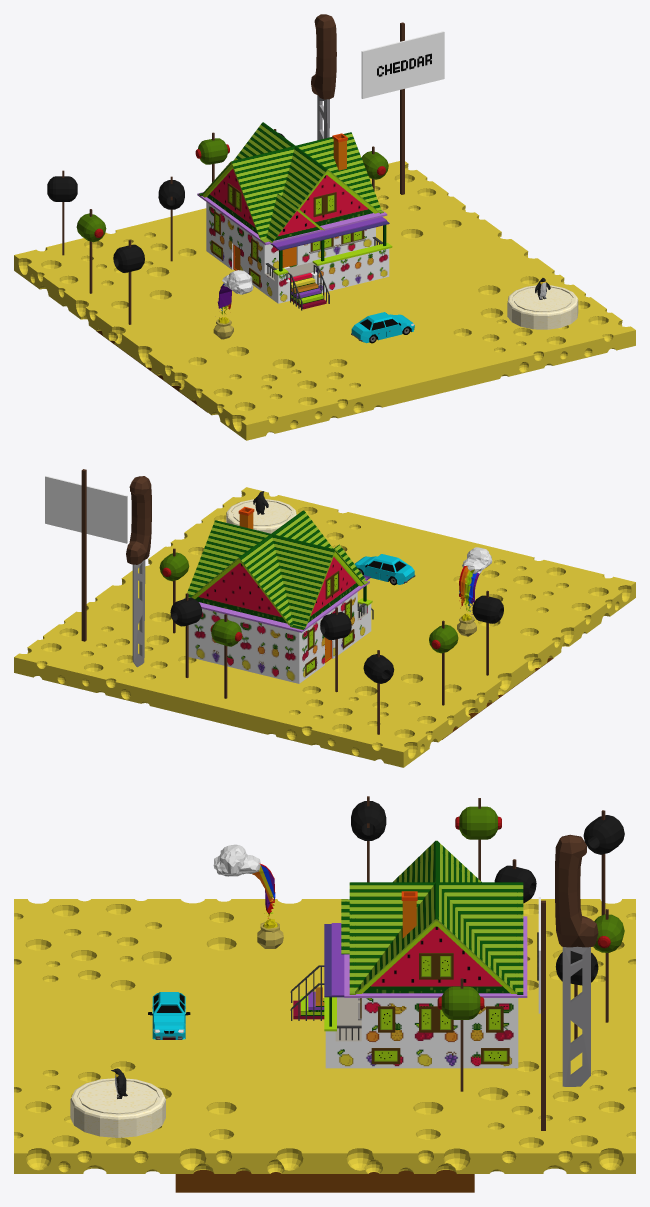
The picture shows the model from 3 angles, top to bottom: view 1: azimuth 30°, elevation 25°; view 2: azimuth 150°, elevation 25°; view 3: azimuth 270°, elevation 25°; orthographic projection. The views are drawn at different scales.
Visible parts, largest first — view 1: Cube.022, Cube.1063, Cube.023, Cylinder.016, Cube.024, VEHICLES_CAR, OBJRANDOM_RAINBOW, Sphere.017, Sphere.016, Sphere.018, Sphere.020, Sphere.022 (+1 smaller); view 2: Cube.022, Cube.1063, Cube.023, Cube.024, OBJRANDOM_RAINBOW, Cylinder.016, VEHICLES_CAR, Sphere.021, Sphere.022, Sphere.020, Sphere.017, Sphere.016 (+2 smaller); view 3: Cube.022, Cube.1063, Cube.024, UNDERGROUND_ART_PIECE_VAN_GOGH, Cylinder.016, OBJRANDOM_RAINBOW, VEHICLES_CAR, Sphere.019, Sphere.016, Cube.023, Sphere.018, Sphere.017 (+3 smaller).
Part boxes in pixels (bbox=[...]): Cube.022: bbox=[14, 161, 635, 440]; Cube.1063: bbox=[197, 122, 392, 310]; Cube.023: bbox=[361, 22, 444, 194]; Cylinder.016: bbox=[507, 285, 578, 329]; Cube.024: bbox=[311, 14, 336, 140]; VEHICLES_CAR: bbox=[351, 312, 414, 343]; OBJRANDOM_RAINBOW: bbox=[213, 270, 253, 339]; Sphere.017: bbox=[113, 240, 144, 324]; Sphere.016: bbox=[47, 170, 77, 255]; Sphere.018: bbox=[76, 209, 106, 293]; Sphere.020: bbox=[158, 176, 184, 261]; Sphere.022: bbox=[195, 132, 229, 182]; Cube.022: bbox=[14, 487, 635, 767]; Cube.1063: bbox=[183, 506, 373, 683]; Cube.023: bbox=[45, 469, 127, 641]; Cube.024: bbox=[126, 476, 151, 667]; OBJRANDOM_RAINBOW: bbox=[457, 547, 492, 636]; Cylinder.016: bbox=[226, 499, 296, 533]; VEHICLES_CAR: bbox=[354, 554, 415, 585]; Sphere.021: bbox=[170, 593, 202, 677]; Sphere.022: bbox=[210, 614, 242, 698]; Sphere.020: bbox=[320, 607, 351, 692]; Sphere.017: bbox=[472, 590, 503, 675]; Sphere.016: bbox=[363, 650, 394, 734]; Cube.022: bbox=[14, 899, 635, 1173]; Cube.1063: bbox=[290, 840, 527, 1068]; Cube.024: bbox=[555, 834, 598, 1086]; UNDERGROUND_ART_PIECE_VAN_GOGH: bbox=[175, 1170, 474, 1192]; Cylinder.016: bbox=[70, 1078, 165, 1137]; OBJRANDOM_RAINBOW: bbox=[213, 844, 283, 948]; VEHICLES_CAR: bbox=[148, 992, 190, 1039]; Sphere.019: bbox=[437, 978, 484, 1091]; Sphere.016: bbox=[583, 810, 624, 915]; Cube.023: bbox=[537, 897, 545, 1130]; Sphere.018: bbox=[455, 798, 501, 880]; Sphere.017: bbox=[351, 796, 386, 882].
Bounding box in the file's own units: 3917 × 2132 × 4000.
Materials: 41 (6 with a texture image).
